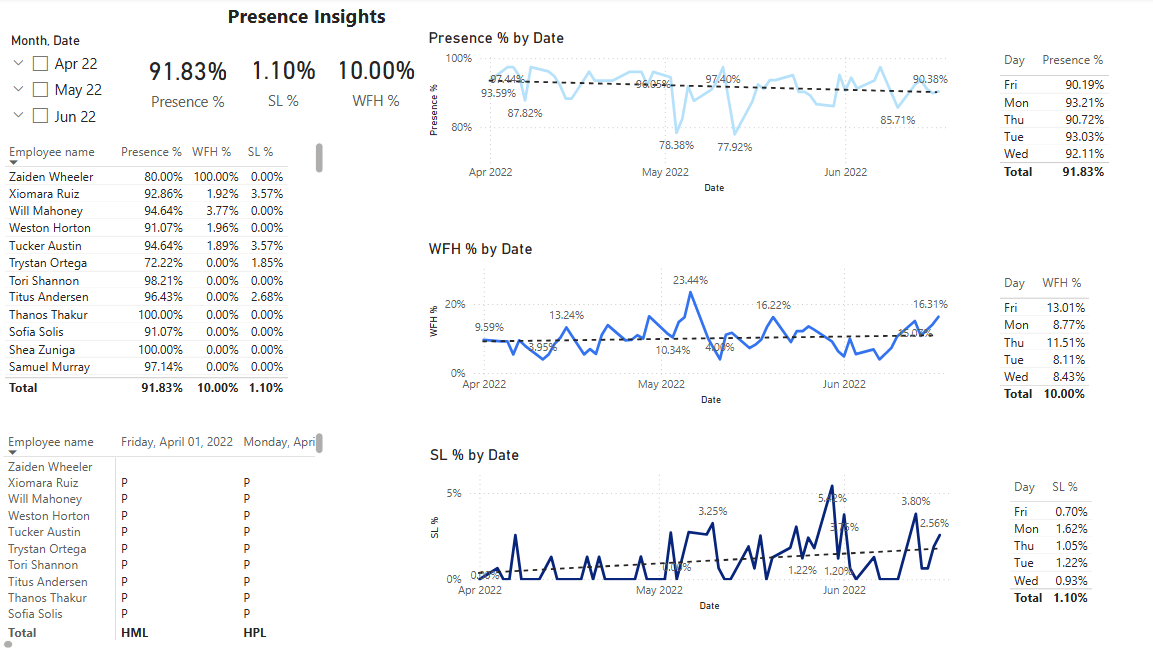

The dashboard page shown, as its layout file describes it:
{"tool":"powerbi","page":{"name":"Page 1","canvas":[1280,720],"ordinal":0},"visuals":[{"type":"card","fields":{"Values":["Measure Table.Presence %"]},"box":[153.7,54.9,107,72.7],"z":0},{"type":"slicer","fields":{"Values":["Combined data.Month","Combined data.Date"]},"box":[0,34.3,153.7,134.5],"z":1000},{"type":"card","fields":{"Values":["Measure Table.WFH %"]},"box":[360.9,50.8,105.7,76.8],"z":2000},{"type":"card","fields":{"Values":["Measure Table.SL %"]},"box":[249.7,50.8,124.9,76.8],"z":3000},{"type":"tableEx","fields":{"Values":["Combined data.Employee name","Measure Table.Presence %","Measure Table.WFH %","Measure Table.SL %"]},"box":[0,155.1,360.9,286.8],"z":4000},{"type":"pivotTable","fields":{"Rows":["Combined data.Employee name"],"Values":["Min(Combined data.Value)"],"Columns":["Combined data.Date"]},"box":[0,473.4,360.9,247],"z":5000},{"type":"lineChart","fields":{"Y":["Measure Table.Presence %"],"Category":["Combined data.Date"]},"box":[466.6,34.3,594.2,186.6],"z":6000},{"type":"lineChart","fields":{"Y":["Measure Table.WFH %"],"Category":["Combined data.Date"]},"box":[466.6,266.2,594.2,186.6],"z":7000},{"type":"textbox","box":[208.6,0,258,50.8],"z":8000},{"type":"lineChart","fields":{"Y":["Measure Table.SL %"],"Category":["Combined data.Date"]},"box":[467.9,492.6,594.2,186.6],"z":9000},{"type":"tableEx","fields":{"Values":["Combined data.Day","Measure Table.Presence %"]},"box":[1092.3,54.9,163.3,183.9],"z":10000},{"type":"tableEx","fields":{"Values":["Combined data.Day","Measure Table.WFH %"]},"box":[1092.3,299.1,163.3,183.9],"z":11000},{"type":"tableEx","fields":{"Values":["Combined data.Day","Measure Table.SL %"]},"box":[1103.3,522.8,163.3,183.9],"z":12000}]}

Visuals, with their boxes in screenshot pixels (x1, y1, x2, y2), scaled from the page's 1280x720 canvas onto the 1153x652 screenshot:
card - Measure Table.Presence %: 138, 50, 235, 116
slicer - Combined data.Month x Combined data.Date: 0, 31, 138, 153
card - Measure Table.WFH %: 325, 46, 420, 116
card - Measure Table.SL %: 225, 46, 337, 116
tableEx - Combined data.Employee name x Measure Table.Presence %: 0, 140, 325, 400
pivotTable - Combined data.Employee name x Min(Combined data.Value): 0, 429, 325, 651
lineChart - Measure Table.Presence % x Combined data.Date: 420, 31, 956, 200
lineChart - Measure Table.WFH % x Combined data.Date: 420, 241, 956, 410
textbox: 188, 0, 420, 46
lineChart - Measure Table.SL % x Combined data.Date: 421, 446, 957, 615
tableEx - Combined data.Day x Measure Table.Presence %: 984, 50, 1131, 216
tableEx - Combined data.Day x Measure Table.WFH %: 984, 271, 1131, 437
tableEx - Combined data.Day x Measure Table.SL %: 994, 473, 1141, 640
